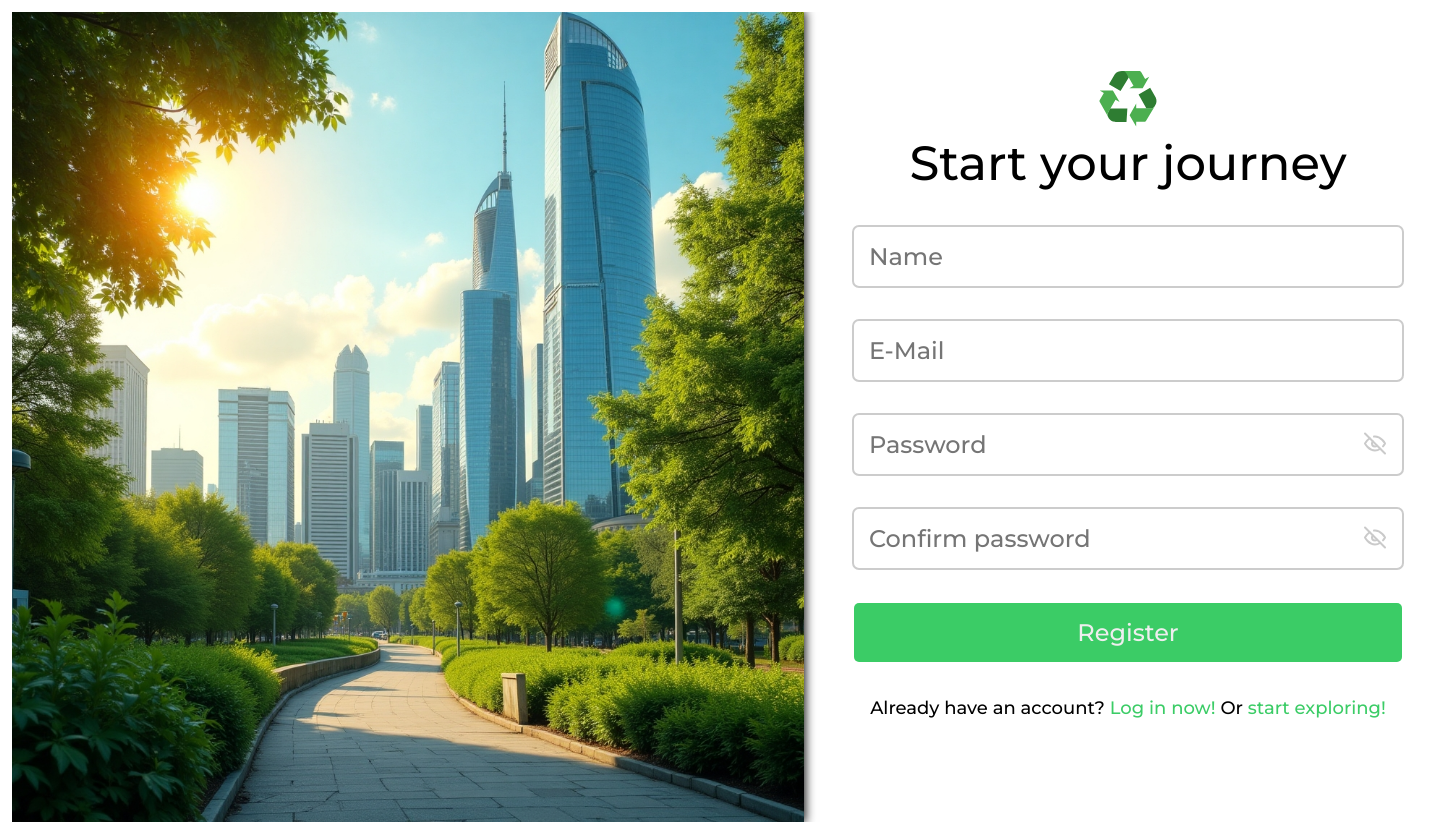
RegistrationPage › incorrect input - minimal length
The width and height of the screenshot is (1452, 822).
Click the button "Register".
click(1128, 632)  # box top-left (854, 603), bottom-right (1402, 662)
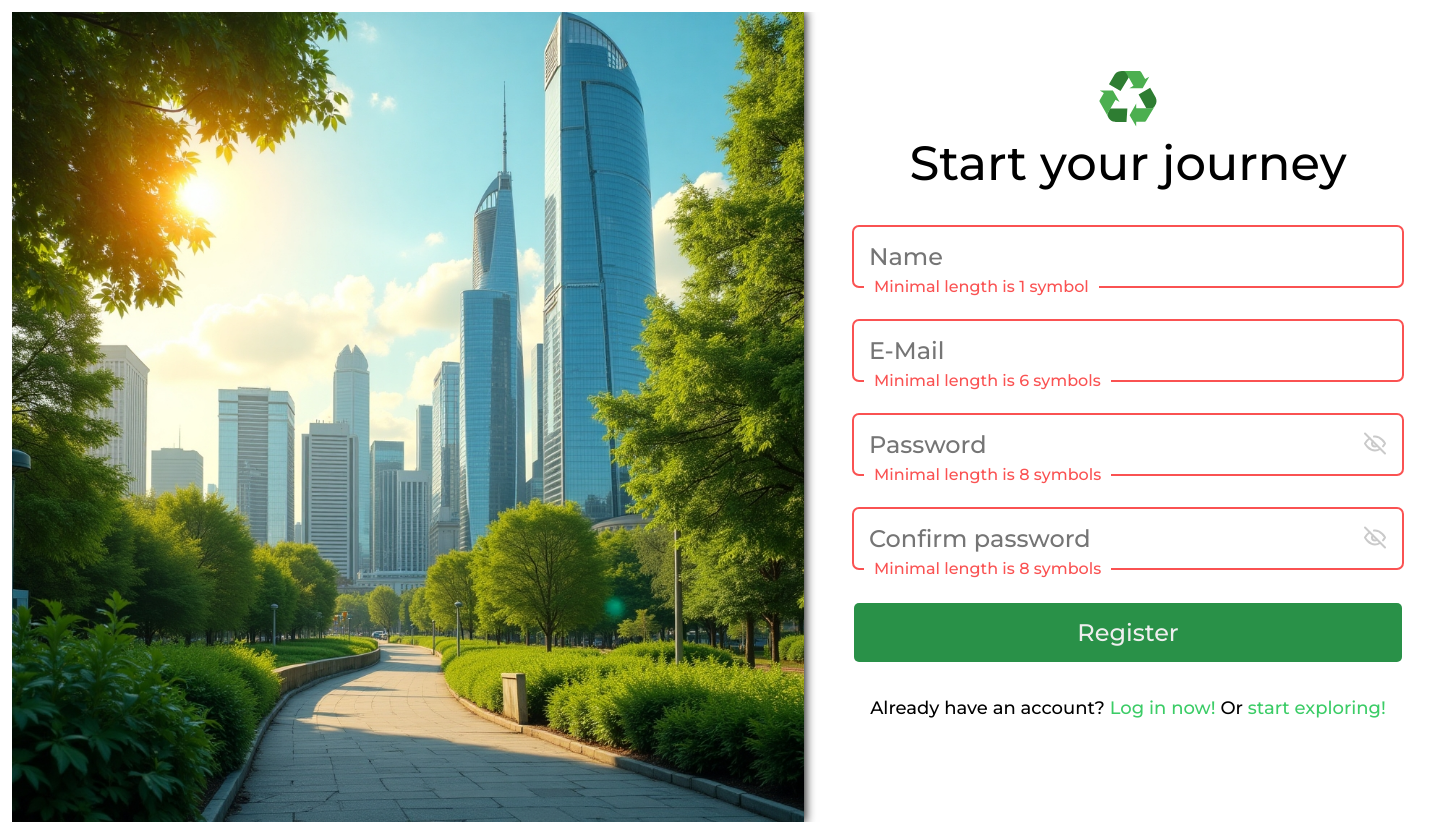
Expected: the text "Minimal length is 1 symbol" is shown 4 times, top-left (864, 277), bottom-right (1099, 296); top-left (864, 371), bottom-right (1111, 390); top-left (864, 465), bottom-right (1111, 484); top-left (864, 559), bottom-right (1111, 578)
